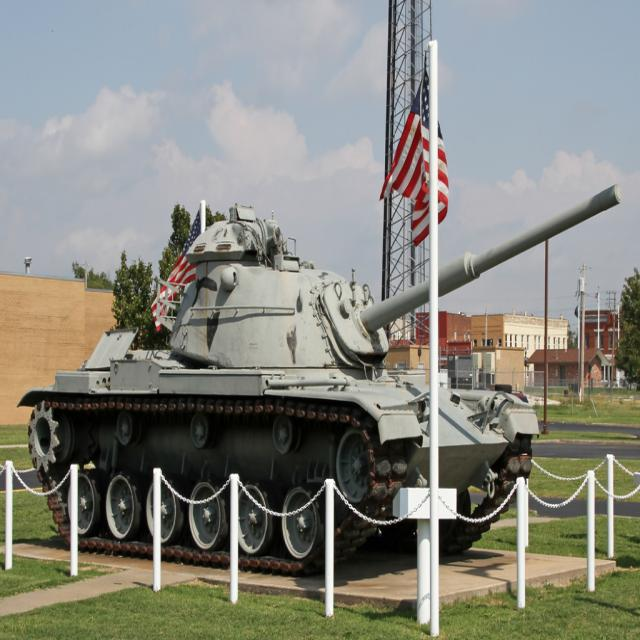tank: (16, 184, 624, 576)
